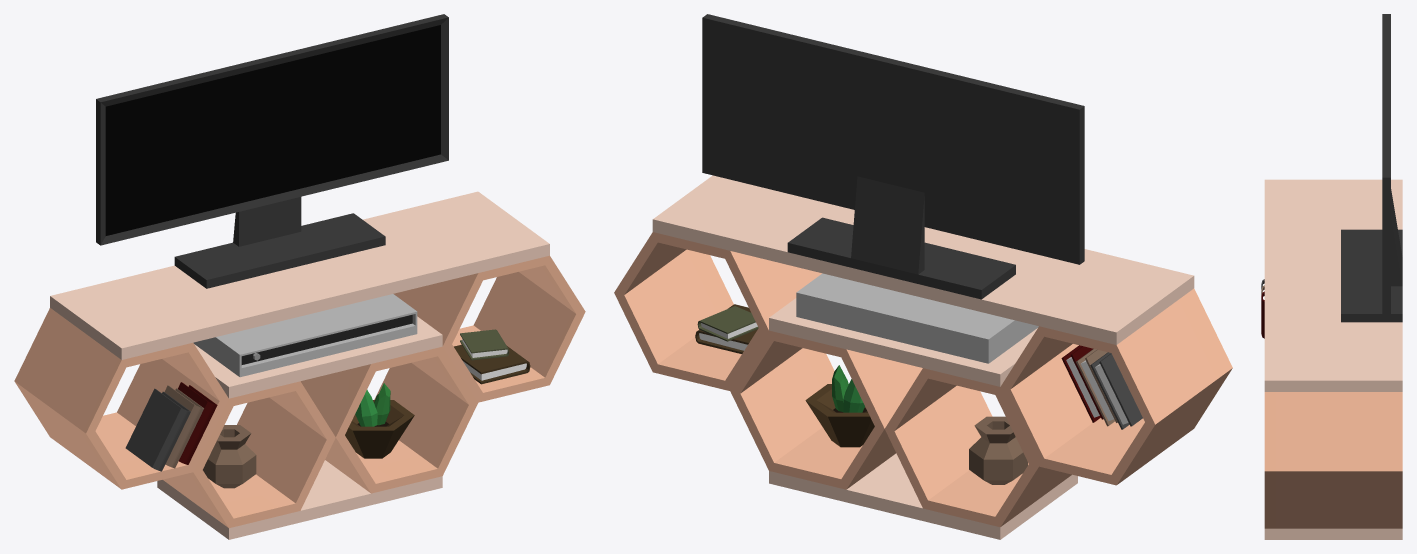
The model's file is low_poly_tv_shelf_with_tv_books_and_plant.glb.
3 views of the same model, side by side, from view 1: azimuth 30°, elevation 25°; view 2: azimuth 150°, elevation 25°; view 3: azimuth 270°, elevation 25° (orthographic). The views are drawn at different scales.
Parts seen in each view (by area): view 1: tv; view 2: tv; view 3: tv.
Part boxes in pixels (x1,y1,x2,y2): tv: [14, 14, 585, 539]; tv: [614, 14, 1232, 539]; tv: [1261, 14, 1402, 539].
Size of the model in its own units: 1.88 by 1.47 by 0.4765.
Materials: 1 (1 with a texture image).
